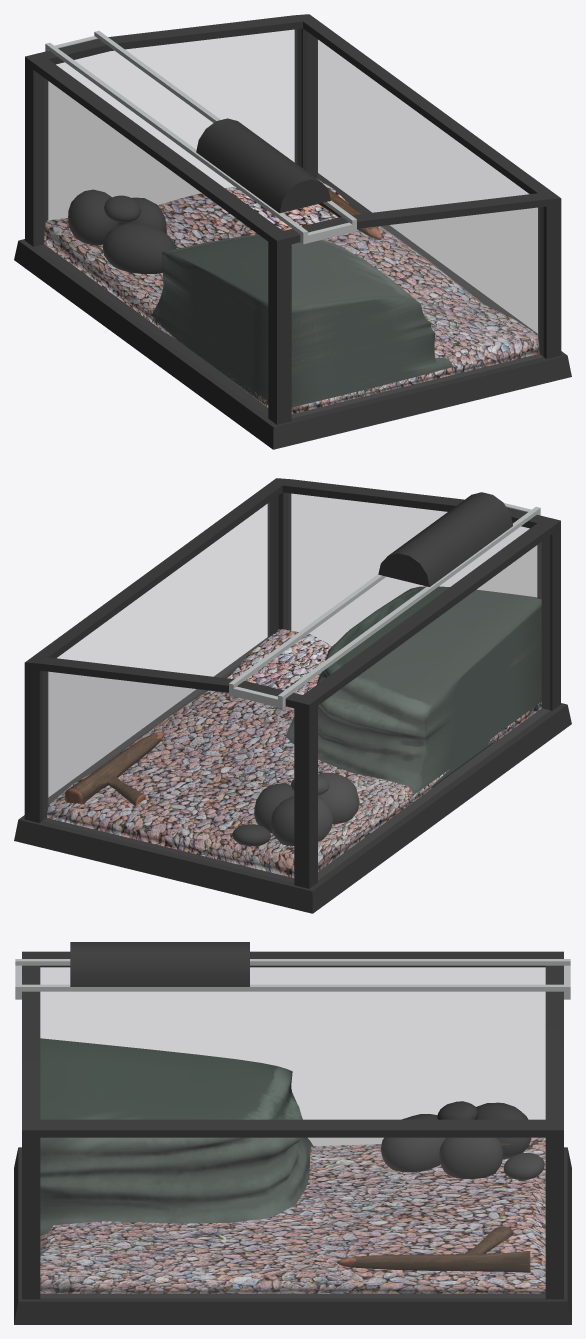
The model's file is Turtle_Tank_High.fbx.
3 views of the same model, one above another, from view 1: azimuth 30°, elevation 25°; view 2: azimuth 150°, elevation 25°; view 3: azimuth 270°, elevation 25° (orthographic). The views are drawn at different scales.
Visible parts, largest first — view 1: Glass_GEO, Frame_GEO, Rock_GEO, Pebbles_GEO, Base_GEO, Light_GEO, Holder_GEO, Rock_GEO_3, Rock_GEO_4, Rock_GEO_1, Rock_GEO_5, Stick_GEO; view 2: Glass_GEO, Pebbles_GEO, Frame_GEO, Rock_GEO, Base_GEO, Light_GEO, Holder_GEO, Stick_GEO, Rock_GEO_4, Rock_GEO_3, Rock_GEO_5, Rock_GEO_2; view 3: Glass_GEO, Pebbles_GEO, Rock_GEO, Frame_GEO, Base_GEO, Light_GEO, Holder_GEO, Stick_GEO, Rock_GEO_5, Rock_GEO_3, Rock_GEO_4, Rock_GEO_2 (+1 smaller).
Part boxes in pixels (left/top/right/bottom): Glass_GEO: left=36, top=29, right=542, bottom=417; Frame_GEO: left=25, top=14, right=561, bottom=424; Rock_GEO: left=151, top=234, right=452, bottom=410; Pebbles_GEO: left=44, top=178, right=539, bottom=413; Base_GEO: left=14, top=173, right=571, bottom=449; Light_GEO: left=196, top=118, right=330, bottom=213; Holder_GEO: left=45, top=30, right=356, bottom=244; Rock_GEO_3: left=102, top=222, right=176, bottom=274; Rock_GEO_4: left=68, top=189, right=119, bottom=245; Rock_GEO_1: left=104, top=195, right=140, bottom=222; Rock_GEO_5: left=119, top=197, right=166, bottom=233; Stick_GEO: left=296, top=163, right=382, bottom=239; Glass_GEO: left=43, top=493, right=549, bottom=881; Pebbles_GEO: left=47, top=628, right=541, bottom=877; Frame_GEO: left=24, top=478, right=560, bottom=888; Rock_GEO: left=286, top=586, right=541, bottom=794; Base_GEO: left=14, top=637, right=571, bottom=913; Light_GEO: left=378, top=492, right=512, bottom=586; Holder_GEO: left=229, top=503, right=540, bottom=708; Stick_GEO: left=64, top=731, right=164, bottom=806; Rock_GEO_4: left=270, top=796, right=333, bottom=846; Rock_GEO_3: left=318, top=772, right=359, bottom=824; Rock_GEO_5: left=254, top=783, right=294, bottom=832; Rock_GEO_2: left=232, top=824, right=270, bottom=846; Glass_GEO: left=40, top=967, right=545, bottom=1297; Pebbles_GEO: left=40, top=1137, right=545, bottom=1293; Rock_GEO: left=40, top=1038, right=313, bottom=1236; Frame_GEO: left=22, top=951, right=563, bottom=1299; Base_GEO: left=14, top=1147, right=571, bottom=1324; Light_GEO: left=70, top=942, right=249, bottom=986; Holder_GEO: left=15, top=959, right=570, bottom=999; Stick_GEO: left=336, top=1226, right=530, bottom=1272; Rock_GEO_5: left=439, top=1137, right=503, bottom=1178; Rock_GEO_3: left=380, top=1114, right=445, bottom=1172; Rock_GEO_4: left=476, top=1102, right=531, bottom=1158; Rock_GEO_2: left=503, top=1153, right=544, bottom=1179.
Bounding box in the file's own units: 0.5376 × 0.405 × 0.8079.
